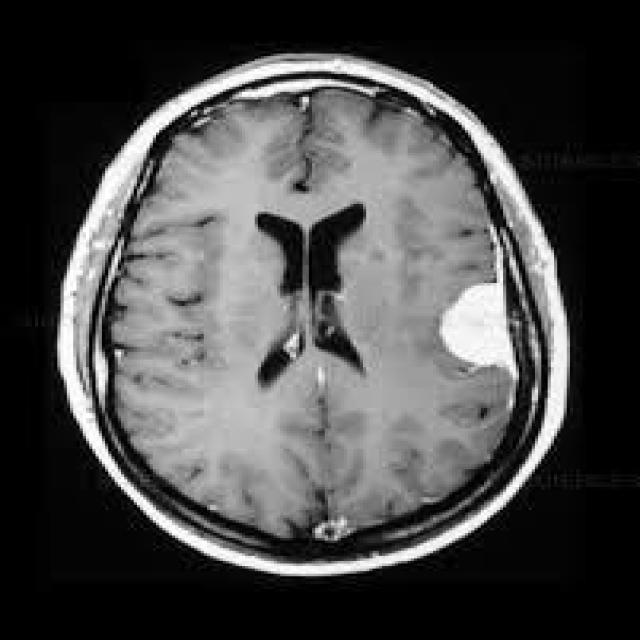Tumor: (436, 285, 532, 380)
